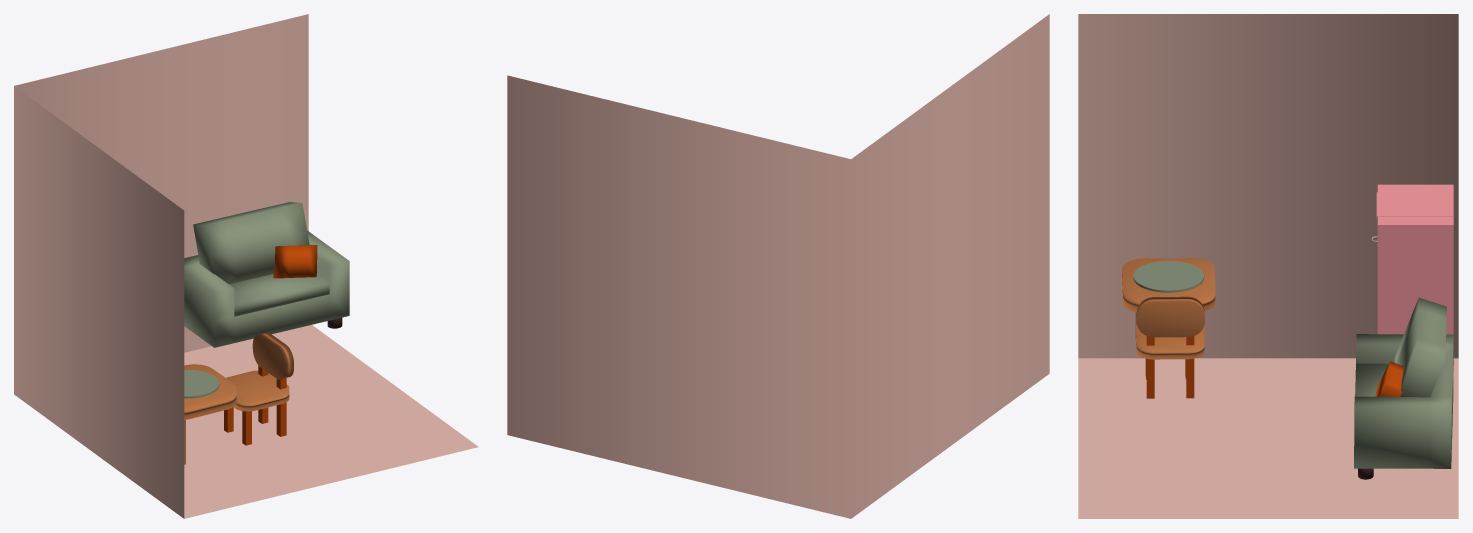
The model's file is simpleroom.glb.
3 views of the same model, side by side, from view 1: azimuth 30°, elevation 25°; view 2: azimuth 150°, elevation 25°; view 3: azimuth 270°, elevation 25° (orthographic). The views are drawn at different scales.
Parts seen in each view (by area): view 1: Cube (×3), Cube.001 (×2), Cube.002 (×2), Cube.003 (×2), Cube.004, Cylinder; view 2: Cube; view 3: Cube (×3), Cube.001 (×2), mueble.006, Cube.002 (×2), Cube.004, chapa inferior.003, Cylinder, Cube.003 (×2).
Boxes of the visible parts, left/top/right/bottom form: Cube (×3): left=14, top=14, right=349, bottom=518; Cube.001 (×2): left=184, top=273, right=478, bottom=518; Cube.002 (×2): left=193, top=202, right=309, bottom=411; Cube.003 (×2): left=224, top=245, right=317, bottom=445; Cube.004: left=252, top=332, right=293, bottom=379; Cylinder: left=184, top=370, right=219, bottom=398; Cube: left=507, top=14, right=1049, bottom=518; Cube (×3): left=1078, top=14, right=1458, bottom=468; Cube.001 (×2): left=1078, top=358, right=1458, bottom=518; mueble.006: left=1377, top=184, right=1453, bottom=370; Cube.002 (×2): left=1136, top=297, right=1446, bottom=397; Cube.004: left=1136, top=296, right=1204, bottom=337; chapa inferior.003: left=1376, top=192, right=1453, bottom=219; Cylinder: left=1133, top=260, right=1204, bottom=292; Cube.003 (×2): left=1145, top=336, right=1403, bottom=398.
Bounding box in the file's own units: 2 × 2 × 2.
